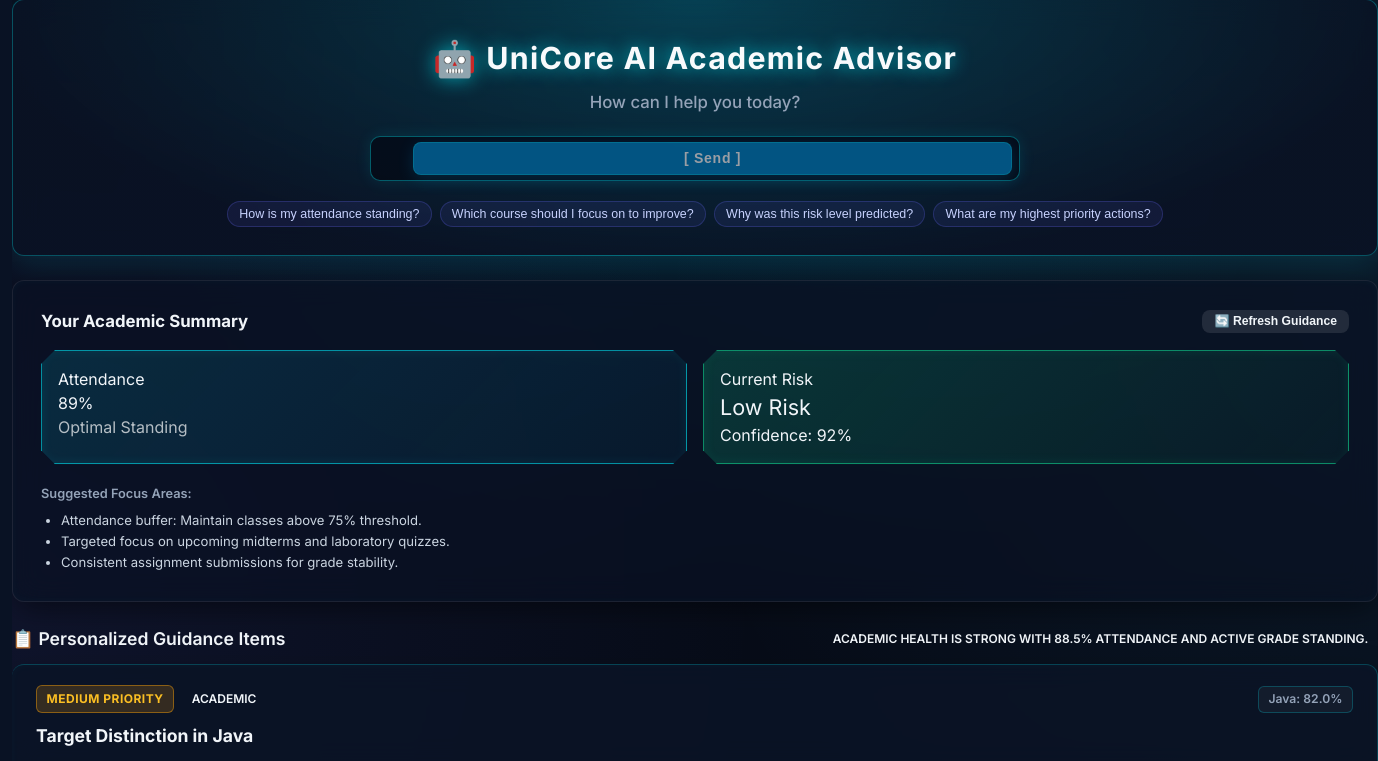
Scenario: Student Portal & AI Advisor UI Tests › handles asking a question to the AI Advisor and displaying the grounded response
Check: the heading "UniCore AI Academic Advisor" is shown, box left=486, top=36, right=957, bottom=81
Click a quick prompt chip
Step 1. Click the button "How is my attendance standing?" → (329, 214), box left=227, top=201, right=432, bottom=227
(page scrolled)
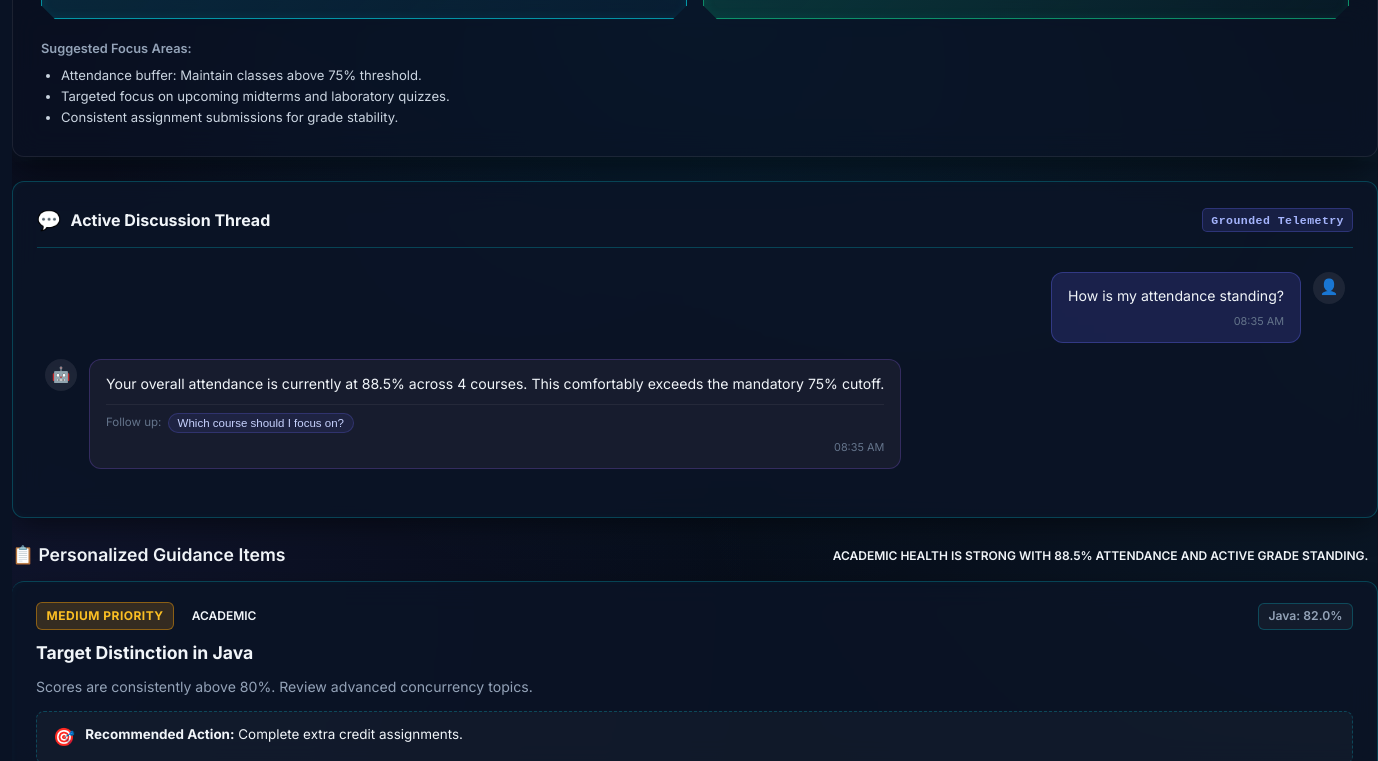
Check: the text "Your overall attendance is currently at 88.5%" is shown, box left=106, top=375, right=884, bottom=392
